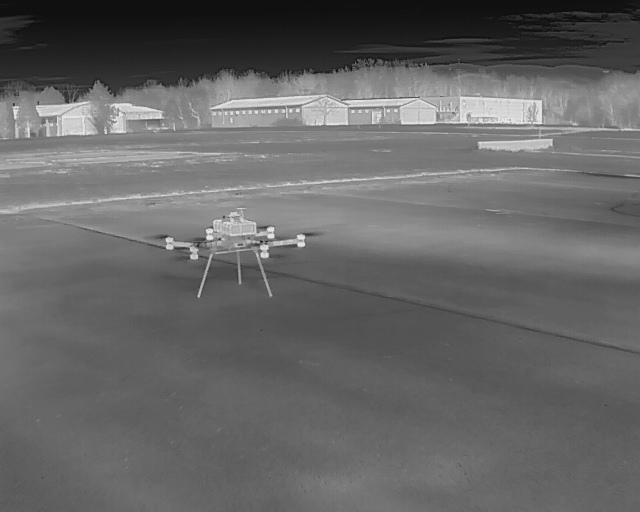drone: (151, 203, 318, 296)
